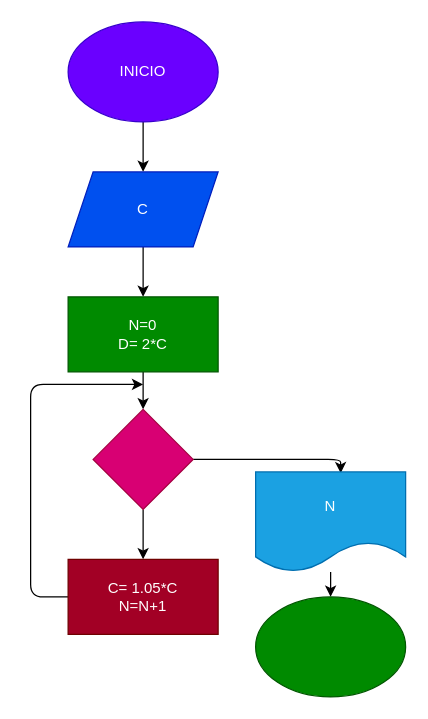
Some shapes in this 428 by 719 pixel diagram are drawn without their labels. Each missing label, with the centre of its shape:
C<=D: point 142,458
FIN: point 330,646
